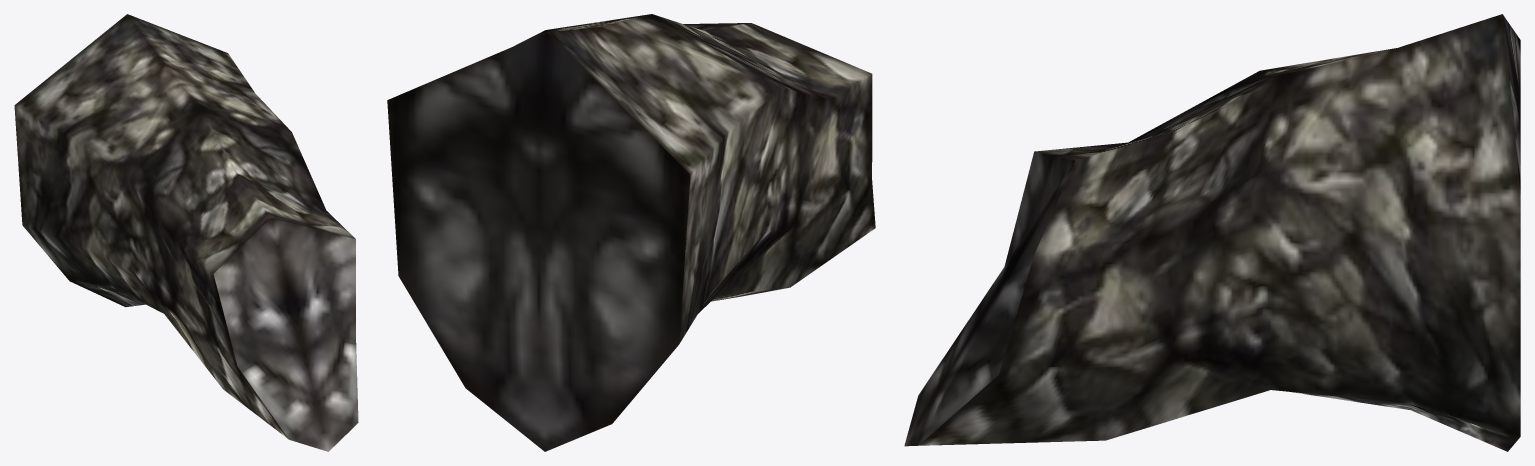
The model's file is icegiantpart_5.glb.
The picture shows the model from 3 angles, left to right: view 1: azimuth 30°, elevation 25°; view 2: azimuth 150°, elevation 25°; view 3: azimuth 270°, elevation 25°; orthographic projection. The views are drawn at different scales.
Visible parts, largest first — view 1: model_icegiantpart_5; view 2: model_icegiantpart_5; view 3: model_icegiantpart_5.
Boxes of the visible parts, left/top/right/bottom form: model_icegiantpart_5: left=14, top=14, right=358, bottom=451; model_icegiantpart_5: left=387, top=14, right=875, bottom=451; model_icegiantpart_5: left=904, top=14, right=1520, bottom=451.
Bounding box in the file's own units: 0.6052 × 0.7975 × 1.02.
1 material, 1 textured.
